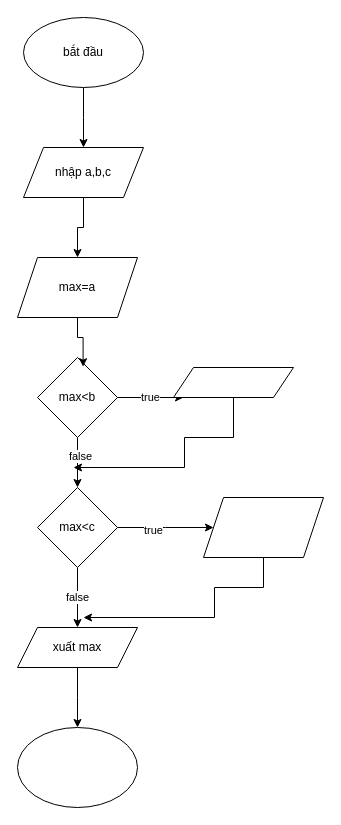
The diagram is 341 pixels wide and 825 high, and some of its shapes have lost their labels. The shapes that lost their labels are listed below. From the top down, each one's centre as x and y in pixels, then its label:
At [233,382]: "max=b".
At [263,527]: "max=c".
At [77,767]: "kết thúc".
